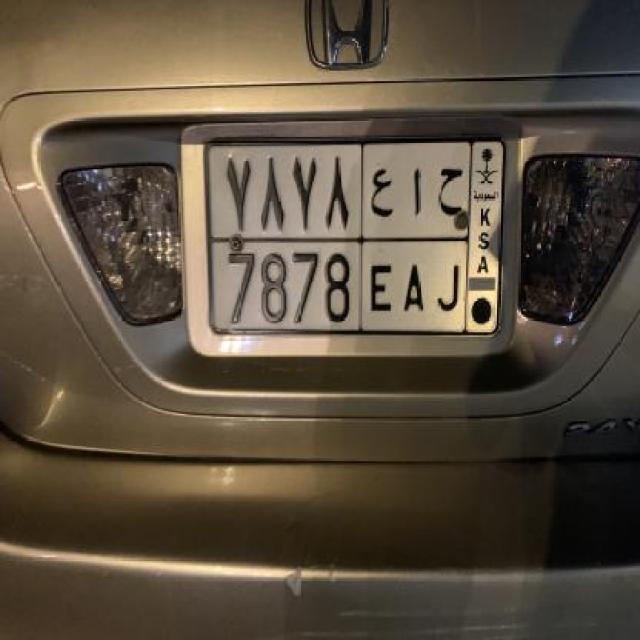license_plate: (198, 129, 508, 342)
